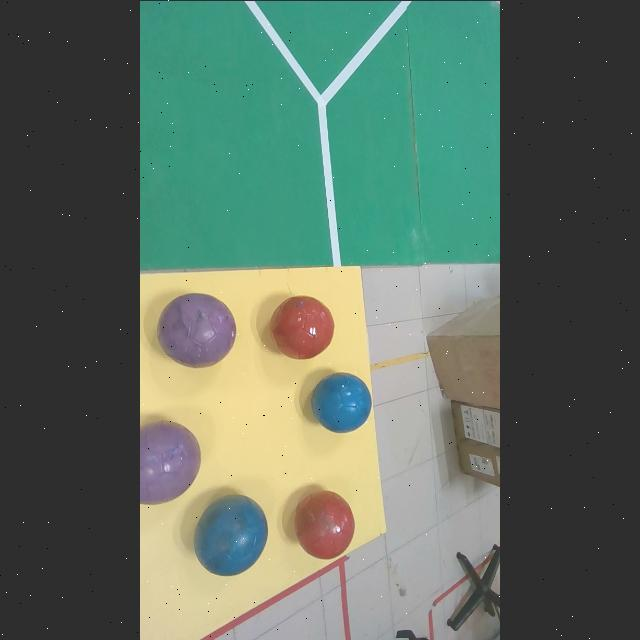B: (194, 494, 267, 575), (312, 371, 372, 433)
P: (158, 292, 236, 368), (140, 420, 201, 503)
R: (295, 489, 355, 558), (270, 294, 334, 358)
